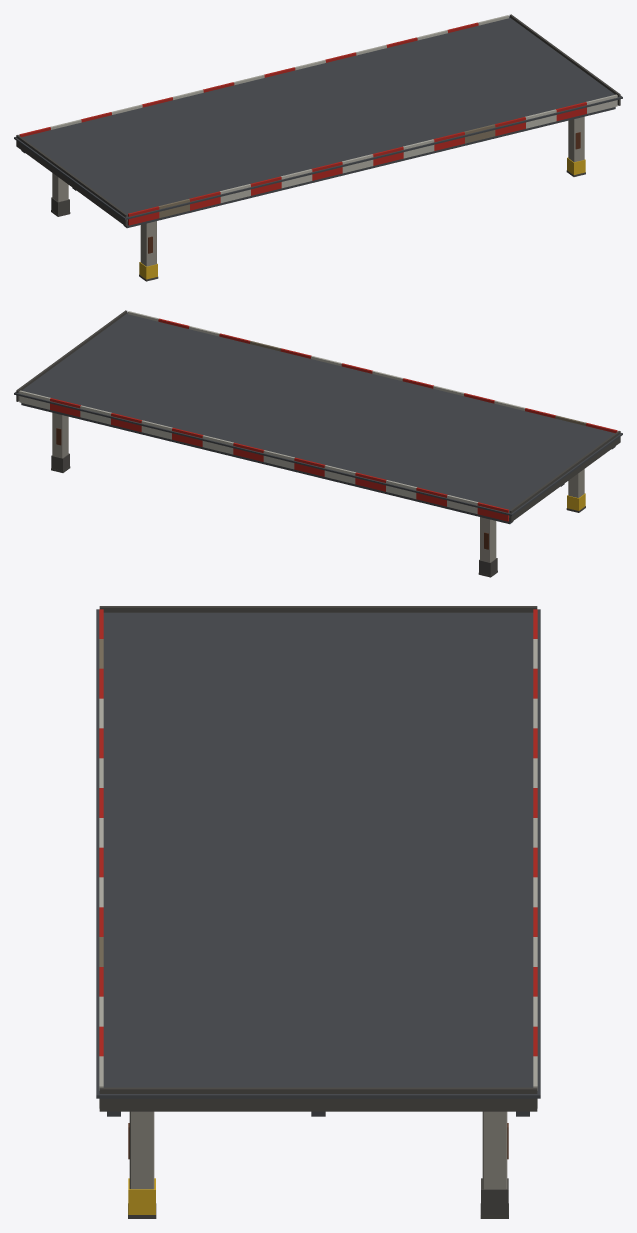
File: lmk_fuel_canopy.fbx
3 renders of one model, top to bottom at view 1: azimuth 30°, elevation 25°; view 2: azimuth 150°, elevation 25°; view 3: azimuth 270°, elevation 25°, orthographic. The views are drawn at different scales.
Visible parts, largest first — view 1: lmk_fuel_canopy; view 2: lmk_fuel_canopy; view 3: lmk_fuel_canopy.
Boxes of the visible parts, x1,y1,x2,y2 form: lmk_fuel_canopy: (14,14,622,281); lmk_fuel_canopy: (14,310,622,577); lmk_fuel_canopy: (96,606,540,1218).
Size of the model in its own units: 32.6 by 4.9 by 12.6.
